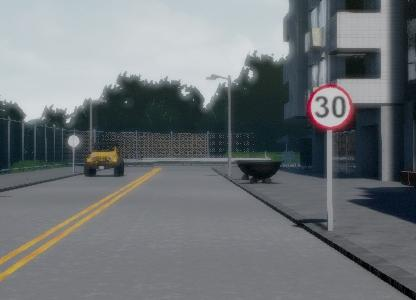Speed_30: (305, 83, 352, 131)
